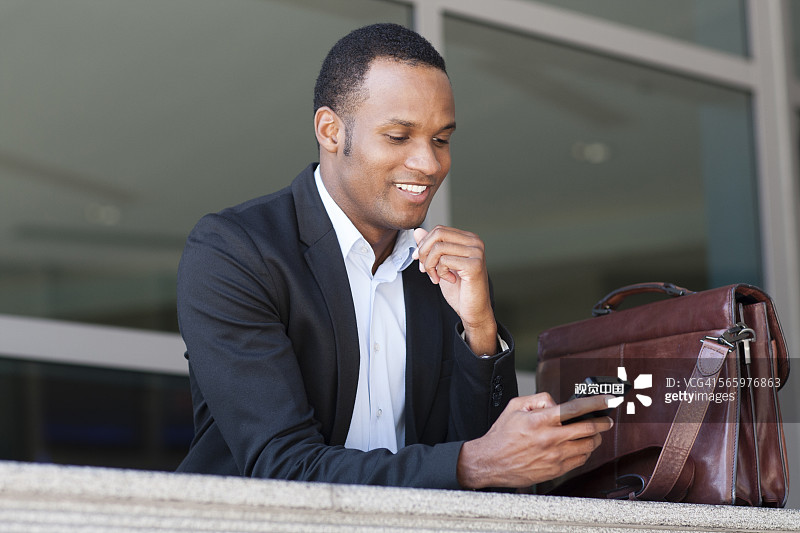no-phone: (388, 211, 509, 346)
reading: (459, 370, 622, 497)
